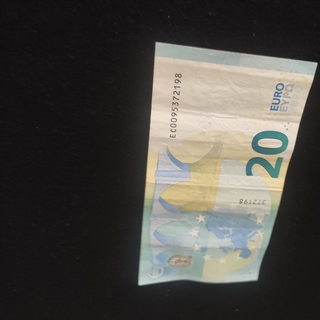20EUROBack: (137, 41, 318, 285)
